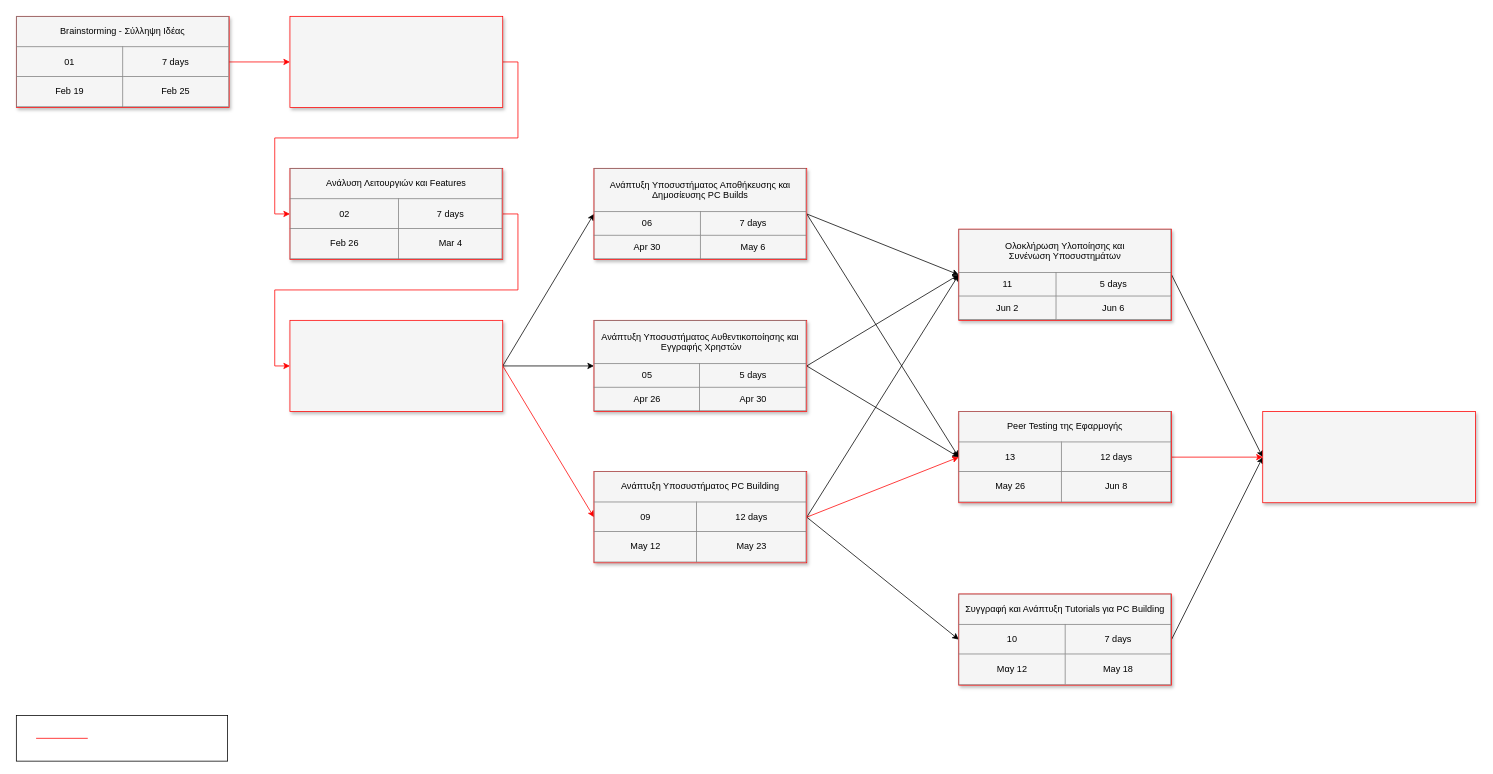
Some shapes in this 1493 by 774 pixel diagram are drawn without their labels. The centre of each missing label's shape, as x and y in pixels:
Ανάπτυξη Βάσης Δεδομένων 04 5 days Apr 12 Apr 16: the point at 396,367
Δημιουργία Scaffold για την Υλοποίηση 03 4 days Mar 24 Mar 27: the point at 396,63
Δημοσίευση Εφαρμογής σε Προσβάσιμο Server και Domain 12 2 days Jun 7 Jun 8: the point at 1369,458
Κρίσιμο Μονοπάτι: the point at 122,738
